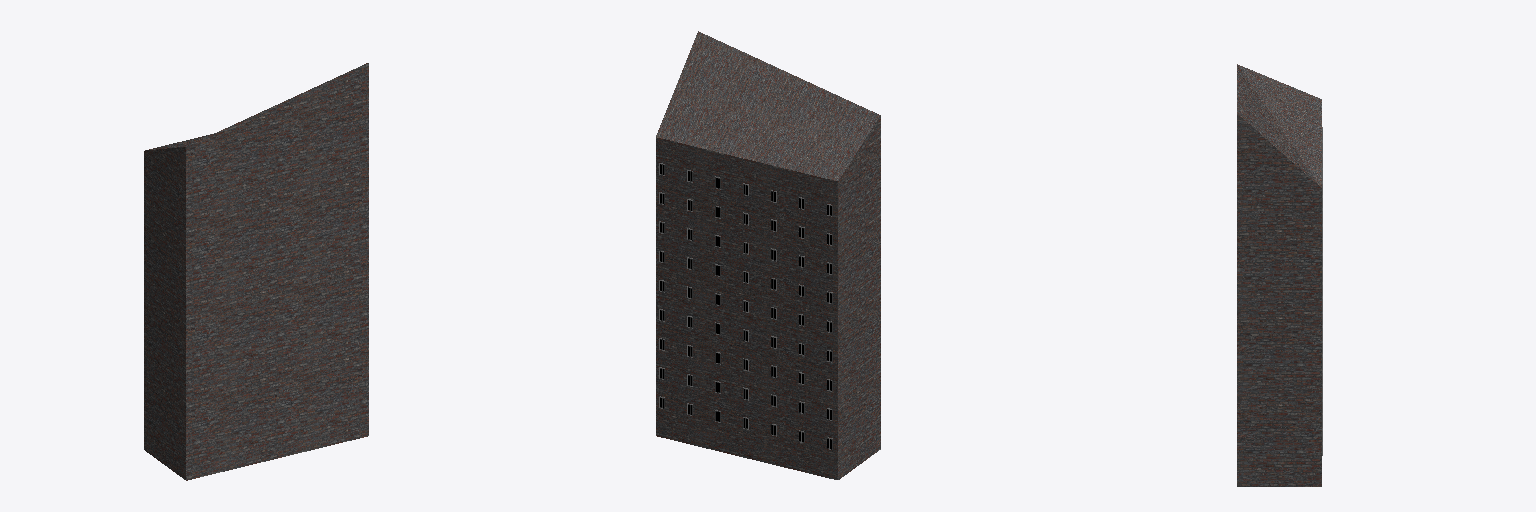
3 views of the same model, side by side, from view 1: azimuth 30°, elevation 25°; view 2: azimuth 150°, elevation 25°; view 3: azimuth 270°, elevation 25° (orthographic).
Visible parts, largest first — view 1: largebrickbuilding:Cube_274_; view 2: largebrickbuilding:Cube_274_; view 3: largebrickbuilding:Cube_274_.
Part boxes in pixels (x1,y1,x2,y2): largebrickbuilding:Cube_274_: (144,63,368,480); largebrickbuilding:Cube_274_: (656,31,880,479); largebrickbuilding:Cube_274_: (1237,64,1322,486).
Bounding box in the file's own units: 164 × 320 × 66.5.
Materials: 2 (1 with a texture image).